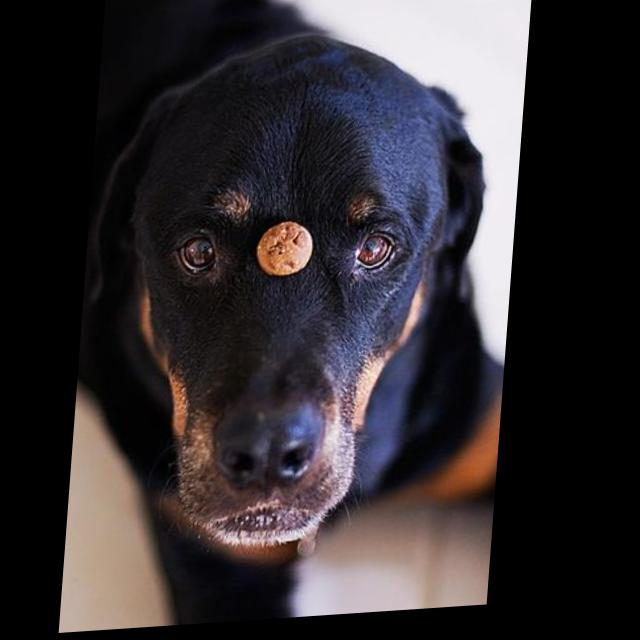rottweiler: (70, 1, 535, 635)
